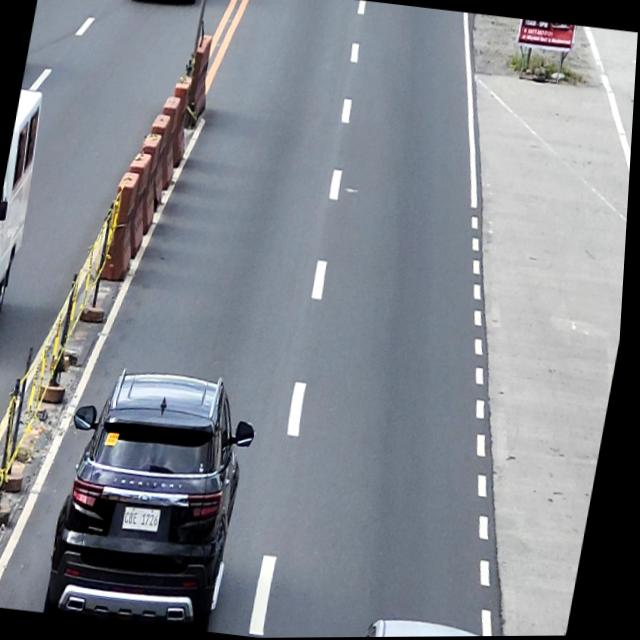Car: (45, 359, 270, 632), (0, 87, 50, 352), (364, 613, 511, 638)
License-Plate: (126, 502, 168, 534)
